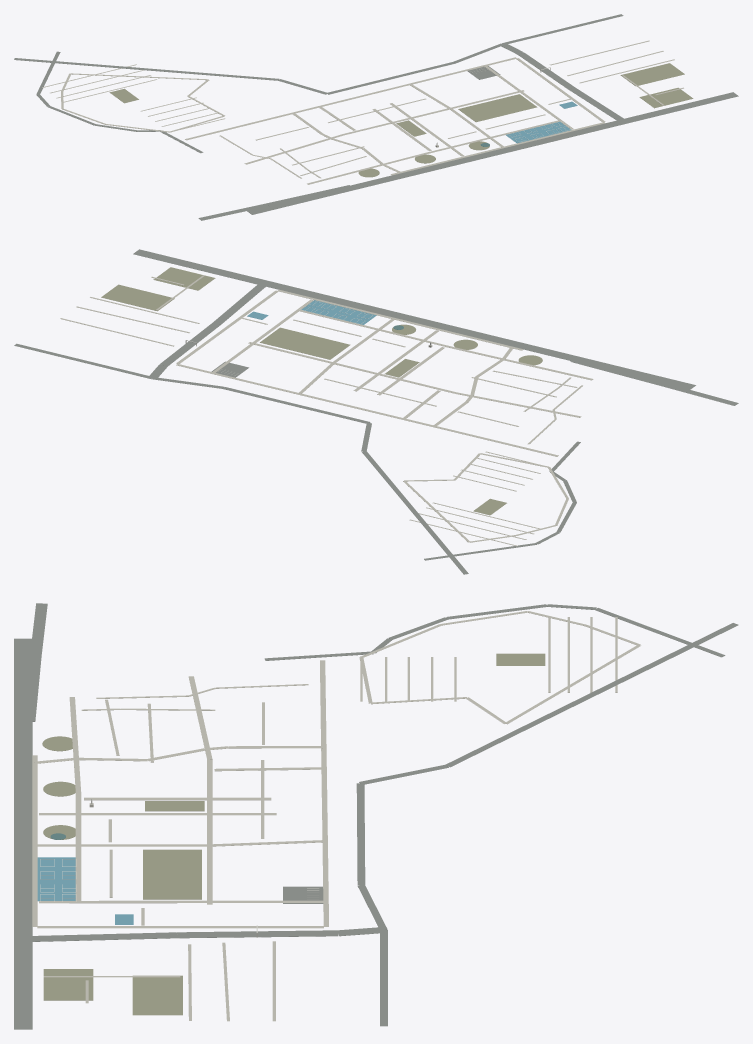
3 renders of one model, top to bottom at view 1: azimuth 30°, elevation 25°; view 2: azimuth 150°, elevation 25°; view 3: azimuth 270°, elevation 25°, orthographic. The views are drawn at different scales.
Parts seen in each view (by area): view 1: 邯郸路.001, 国旗坪.001, Campus east west road.008, 东区草坪.001, 北侧边界道路.005, 室外球场.001, 新闻学院庭院.001, Campus east west road.015, 国定路.004, 北侧边界道路.007, 国定路.003, 北侧边界道路.009; view 2: 邯郸路.001, 国旗坪.001, 东区草坪.001, Campus east west road.008, 室外球场.001, 北侧边界道路.005, 新闻学院庭院.001, Campus east west road.015; view 3: 邯郸路.001, 国旗坪.001, 东区草坪.001, 室外球场.001, 北侧边界道路.005, Campus east west road.008, 新闻学院庭院.001, 国定路.004, 国定路.003, Campus east west road.015, Campus north south road.022, Campus north south road.023 (+5 smaller).
Part boxes in pixels (<box>): 邯郸路.001: <box>247,92,738,214</box>; 国旗坪.001: <box>458,94,537,122</box>; Campus east west road.008: <box>185,57,516,140</box>; 东区草坪.001: <box>620,63,684,86</box>; 北侧边界道路.005: <box>14,58,279,80</box>; 室外球场.001: <box>506,121,571,143</box>; 新闻学院庭院.001: <box>639,87,693,108</box>; Campus east west road.015: <box>390,122,605,175</box>; 国定路.004: <box>517,52,574,89</box>; 北侧边界道路.007: <box>327,62,454,94</box>; 国定路.003: <box>568,87,626,122</box>; 北侧边界道路.009: <box>502,14,623,43</box>; 邯郸路.001: <box>133,249,695,389</box>; 国旗坪.001: <box>260,327,350,359</box>; 东区草坪.001: <box>101,284,174,311</box>; Campus east west road.008: <box>176,364,558,456</box>; 室外球场.001: <box>301,300,376,324</box>; 北侧边界道路.005: <box>361,451,468,574</box>; 新闻学院庭院.001: <box>153,267,215,290</box>; Campus east west road.015: <box>277,289,523,350</box>; 邯郸路.001: <box>14,638,32,1029</box>; 国旗坪.001: <box>143,849,201,899</box>; 东区草坪.001: <box>132,975,182,1015</box>; 室外球场.001: <box>37,857,75,901</box>; 北侧边界道路.005: <box>445,623,738,767</box>; Campus east west road.008: <box>320,660,328,926</box>; 新闻学院庭院.001: <box>43,969,93,1000</box>; 国定路.004: <box>177,930,338,938</box>; 国定路.003: <box>23,932,177,941</box>; Campus east west road.015: <box>32,755,37,926</box>; Campus north south road.022: <box>39,900,326,903</box>; Campus north south road.023: <box>37,926,323,928</box>.
Size of what is drawn, in the model's own units: 1038 by 8.15 by 746.
